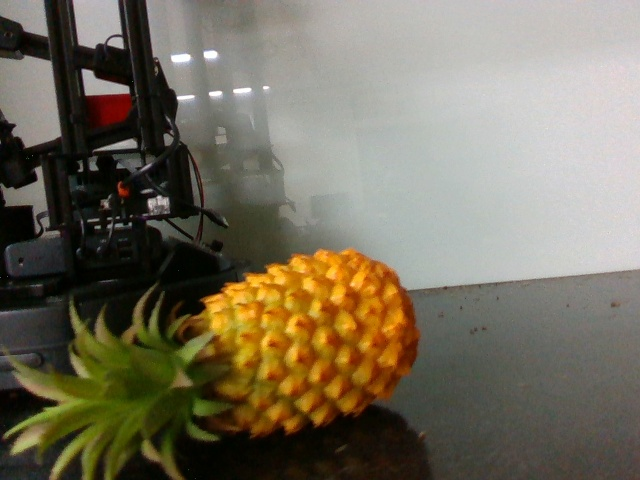pineapple: (5, 245, 421, 480)
